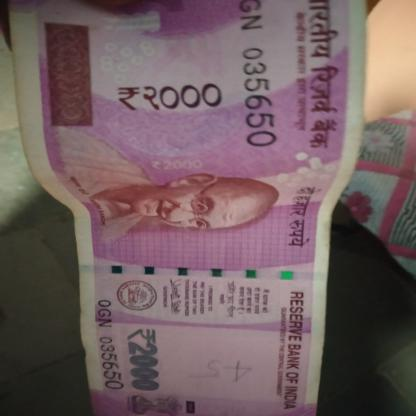New2000Front: (33, 2, 350, 416)
